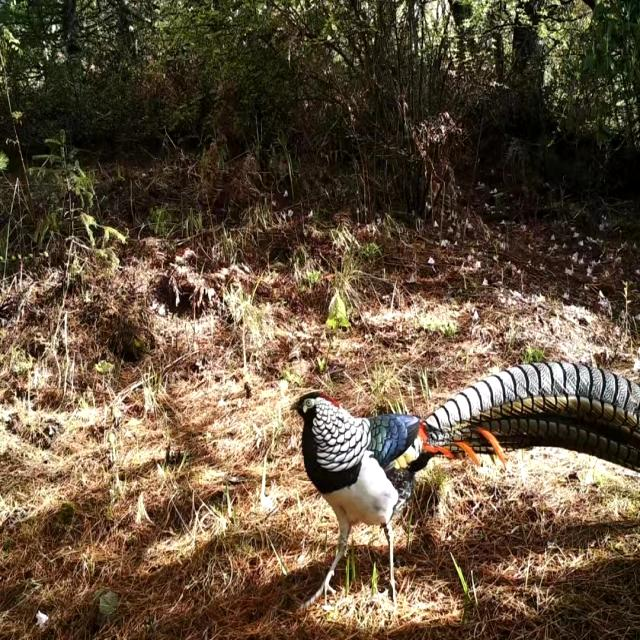Chrysolophus amherstiae: (425, 363, 639, 471)
